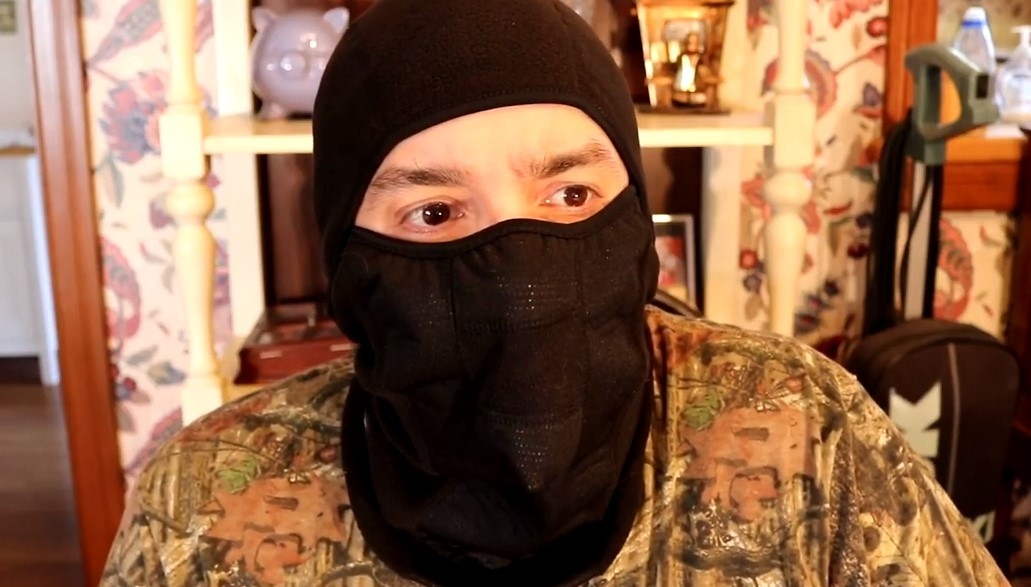face_with_mask: (308, 14, 664, 461)
